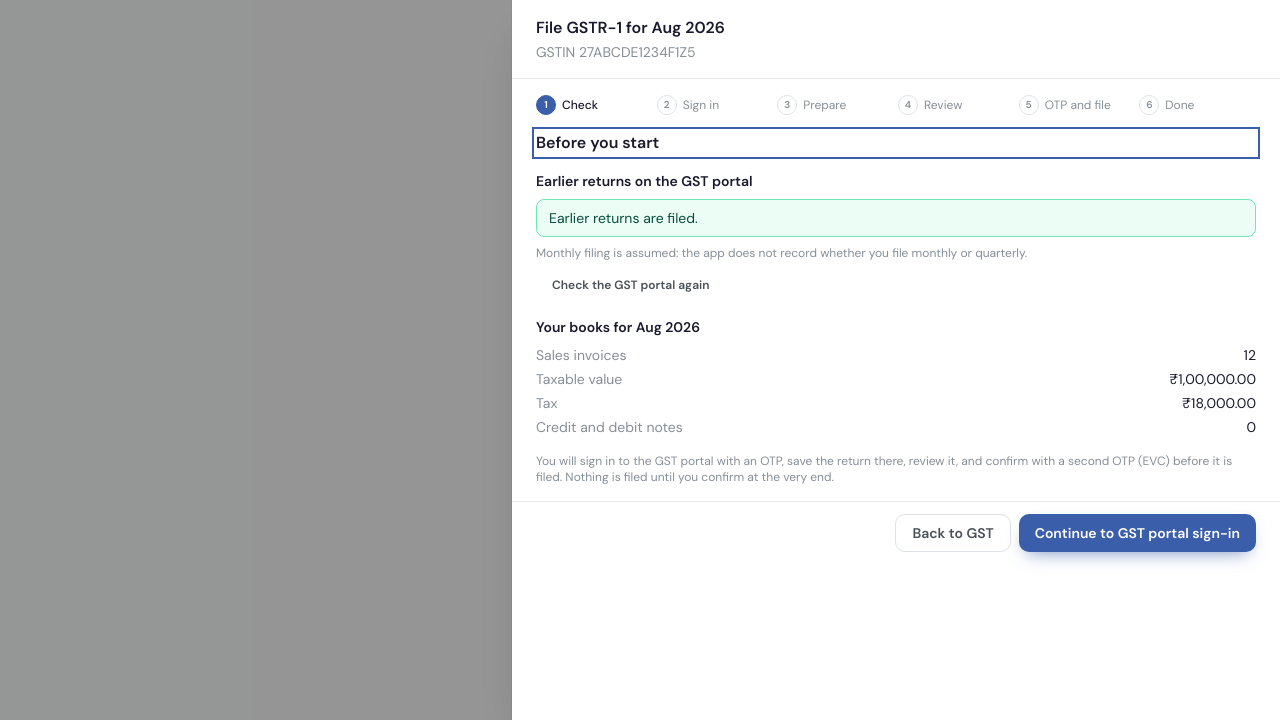
1. pre-flight › shows prerequisites, the books summary and the monthly note, then continues to sign-in
Check: the heading "Before you start" is shown, box 536,132 -> 659,153
Check: the text "Earlier returns are filed." is shown, box 536,199 -> 1256,237
Click the button "Continue to GST portal sign-in". click: {"x": 1137, "y": 533}
box: 1019,514 -> 1256,552
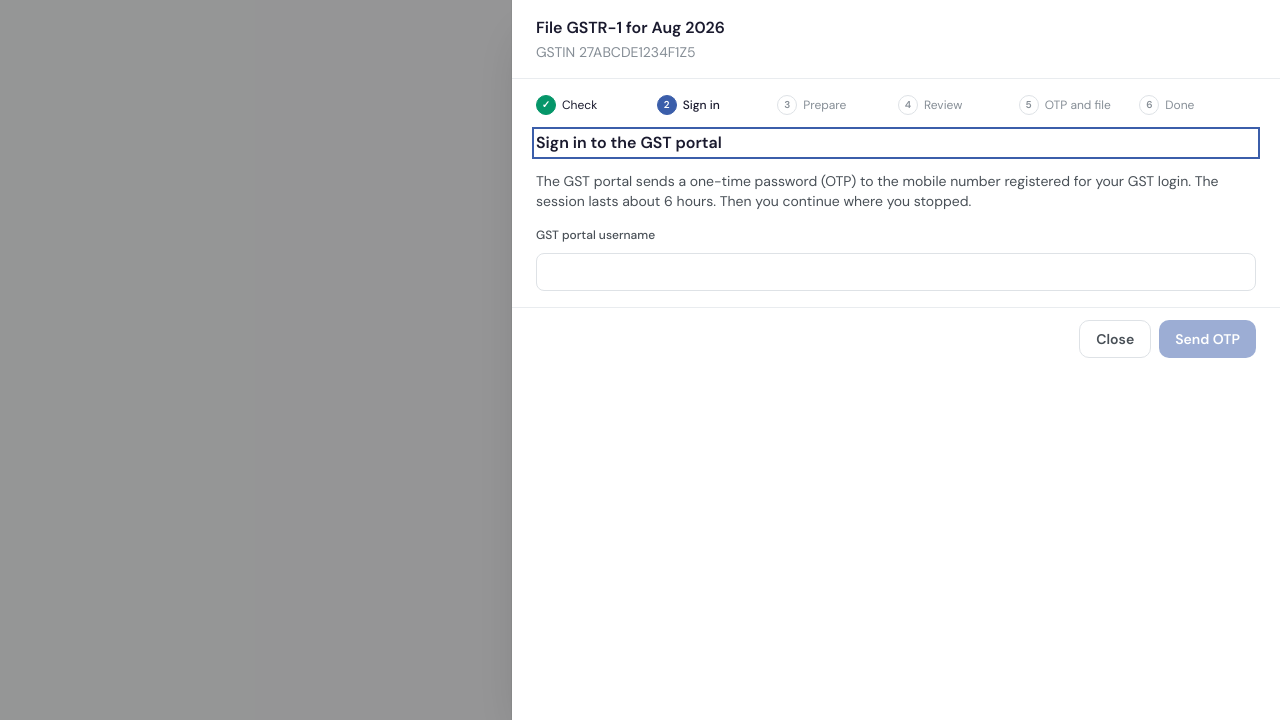
Check: the heading "Sign in to the GST portal" is shown, box 536,132 -> 722,153
